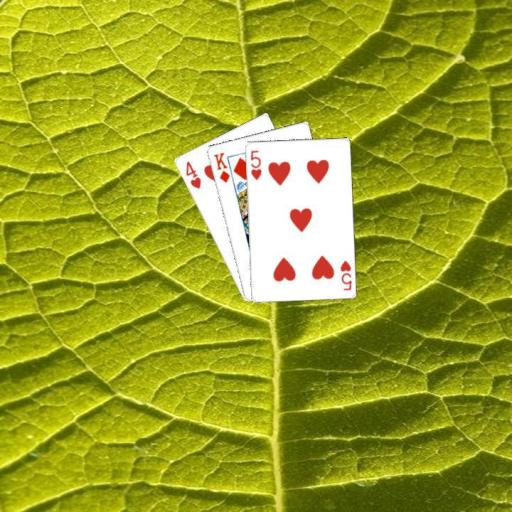4H: (182, 158, 202, 190)
5H: (336, 257, 353, 292), (247, 147, 262, 182)
KD: (211, 150, 231, 185)
